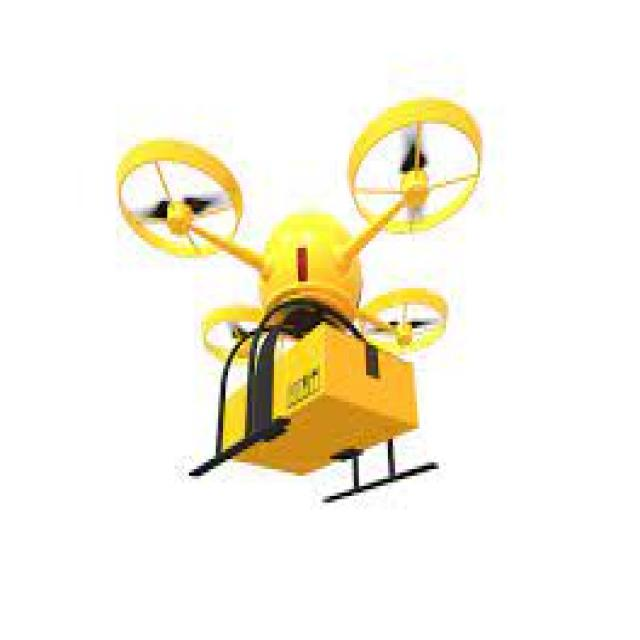drones: (92, 87, 486, 506)
